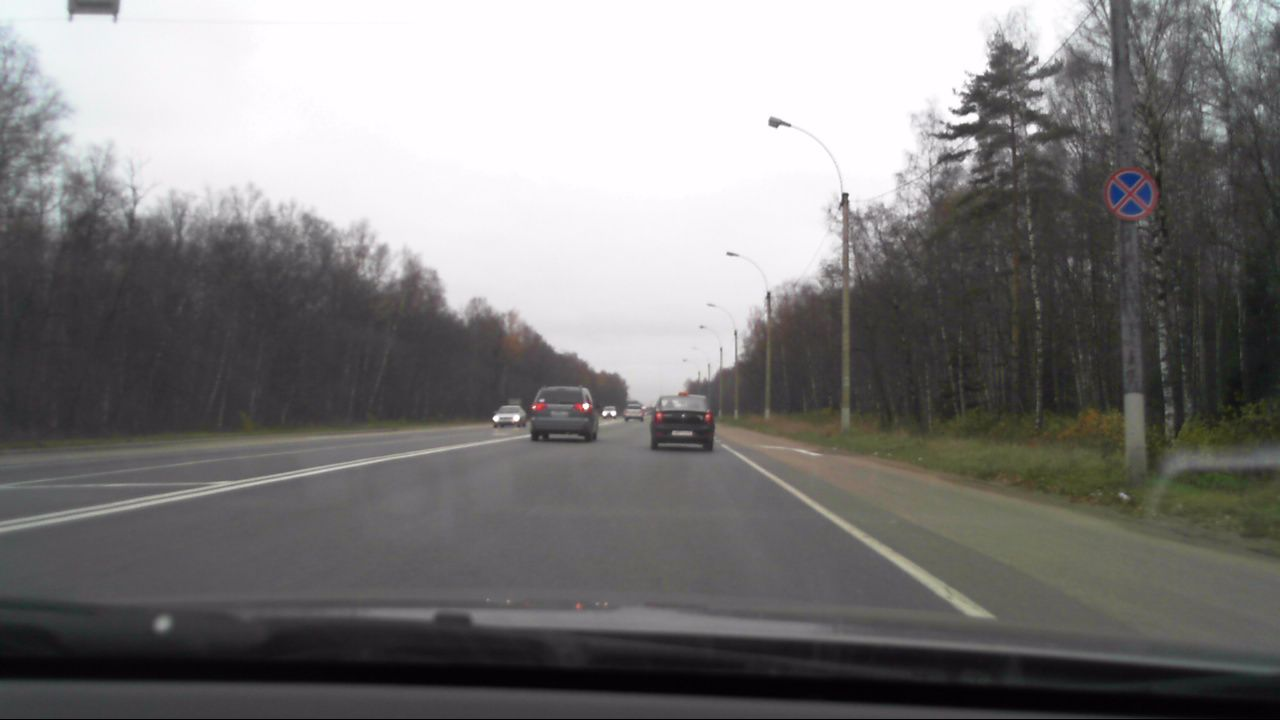No Parking: (1103, 170, 1158, 222)
